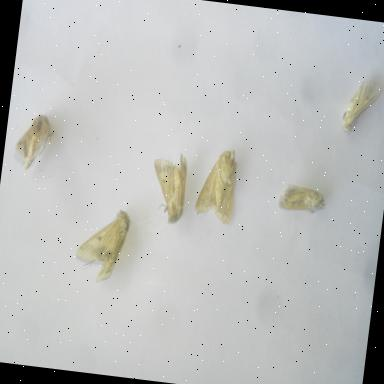abw: (70, 200, 136, 288), (188, 142, 242, 229), (140, 144, 195, 228), (9, 104, 58, 178), (336, 73, 384, 138), (274, 176, 333, 225)
